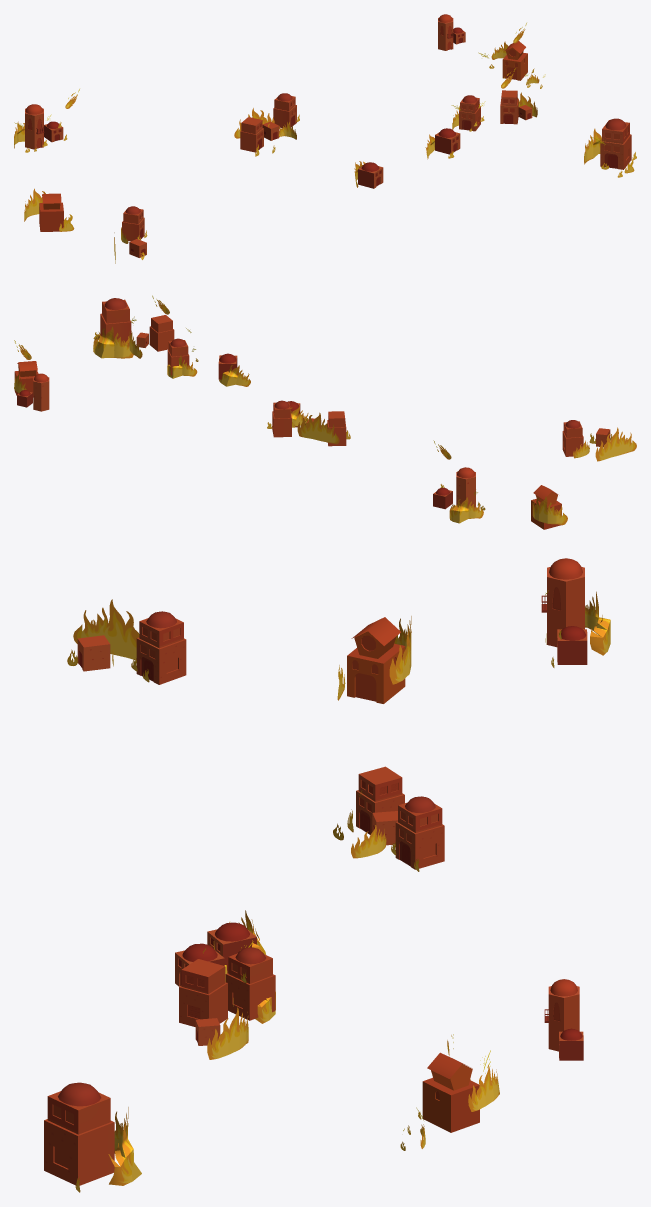
The model's file is Casas_Interacion2.fbx.
3 renders of one model, top to bottom at view 1: azimuth 30°, elevation 25°; view 2: azimuth 150°, elevation 25°; view 3: azimuth 270°, elevation 25°, orthographic. The views are drawn at different scales.
Parts seen in each view (by area): view 1: MDL_Edificio_B_1, MDL_Delantero_Edificio_C, MDL_Casa_M, MDL_Edificio_D, MDL_Edificio_C_1, MDL_Edificio_B_2, MDL_Edificio_H, MDL_Delantero_Casa_A, MDL_Edificio_C_2, MDL_Edificio_F_2, MDL_Edificio_F_3, MDL_Edificio_E_2 (+1 smaller); view 2: MDL_Edificio_B_1, MDL_Fuego_5, MDL_Edificio_C_2, polySurface31, MDL_Fuego_A_Delantero_Edificio_B, MDL_Edificio_D, MDL_Edificio_B_2, MDL_Delantero_Casa_A, MDL_Fuego_A_Delantero_Edificio, MDL_Delantero_Edificio_C, MDL_Edificio_E_2, MDL_Fuego_D_Delantero_Edificio5 (+7 smaller); view 3: MDL_Edificio_B_1, MDL_Delantero_Edificio_C, MDL_Casa_M, MDL_Delantero_Casa_A, MDL_Edificio_B_2, MDL_Edificio_H, MDL_Edificio_D, MDL_Edificio_C_2, MDL_Edificio_C_1, MDL_Fuego_A_Delantero_Edificio_B, MDL_Edificio_E_2, MDL_Fuego_5 (+7 smaller).
Boxes of the visible parts, x1,y1,x2,y2 form: MDL_Edificio_B_1: [600, 118, 631, 169]; MDL_Delantero_Edificio_C: [39, 193, 63, 231]; MDL_Casa_M: [502, 41, 527, 80]; MDL_Edificio_D: [25, 104, 44, 149]; MDL_Edificio_C_1: [240, 117, 263, 152]; MDL_Edificio_B_2: [273, 93, 296, 128]; MDL_Edificio_H: [459, 95, 480, 131]; MDL_Delantero_Casa_A: [122, 206, 144, 241]; MDL_Edificio_C_2: [500, 90, 518, 124]; MDL_Edificio_F_2: [358, 162, 383, 188]; MDL_Edificio_F_3: [435, 128, 460, 154]; MDL_Edificio_E_2: [438, 14, 453, 50]; MDL_Edificio_B_1: [100, 298, 131, 345]; MDL_Fuego_5: [93, 326, 133, 358]; MDL_Edificio_C_2: [149, 315, 174, 351]; polySurface31: [297, 412, 339, 444]; MDL_Fuego_A_Delantero_Edificio_B: [595, 427, 636, 461]; MDL_Edificio_D: [456, 467, 475, 507]; MDL_Edificio_B_2: [272, 400, 291, 437]; MDL_Delantero_Casa_A: [562, 420, 583, 456]; MDL_Fuego_A_Delantero_Edificio: [532, 496, 567, 525]; MDL_Delantero_Edificio_C: [531, 485, 561, 529]; MDL_Edificio_E_2: [33, 373, 49, 411]; MDL_Fuego_D_Delantero_Edificio5: [449, 497, 483, 523]; MDL_Edificio_B_1: [44, 1082, 114, 1185]; MDL_Delantero_Edificio_C: [347, 617, 405, 703]; MDL_Casa_M: [422, 1052, 479, 1132]; MDL_Delantero_Casa_A: [136, 611, 186, 684]; MDL_Edificio_B_2: [395, 796, 444, 869]; MDL_Edificio_H: [225, 947, 275, 1020]; MDL_Edificio_D: [541, 558, 584, 647]; MDL_Edificio_C_2: [179, 959, 227, 1026]; MDL_Edificio_C_1: [356, 766, 404, 834]; MDL_Fuego_A_Delantero_Edificio_B: [73, 599, 139, 660]; MDL_Edificio_E_2: [544, 979, 579, 1051]; MDL_Fuego_5: [108, 1107, 141, 1185].
Bounding box in the file's own units: 5992 × 1065 × 2763.
